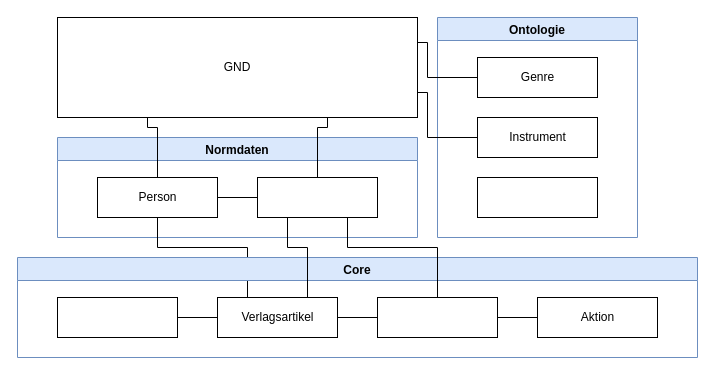
This 715x375 diagram has some shape labels left out. Here are the shapes that lost their labels. From the top down, the centre of each, then its label:
At (x=317, y=197): "Werk".
At (x=537, y=197): "Instrumentierung".
At (x=117, y=317): "Verlag".
At (x=437, y=317): "Teilartikel".
